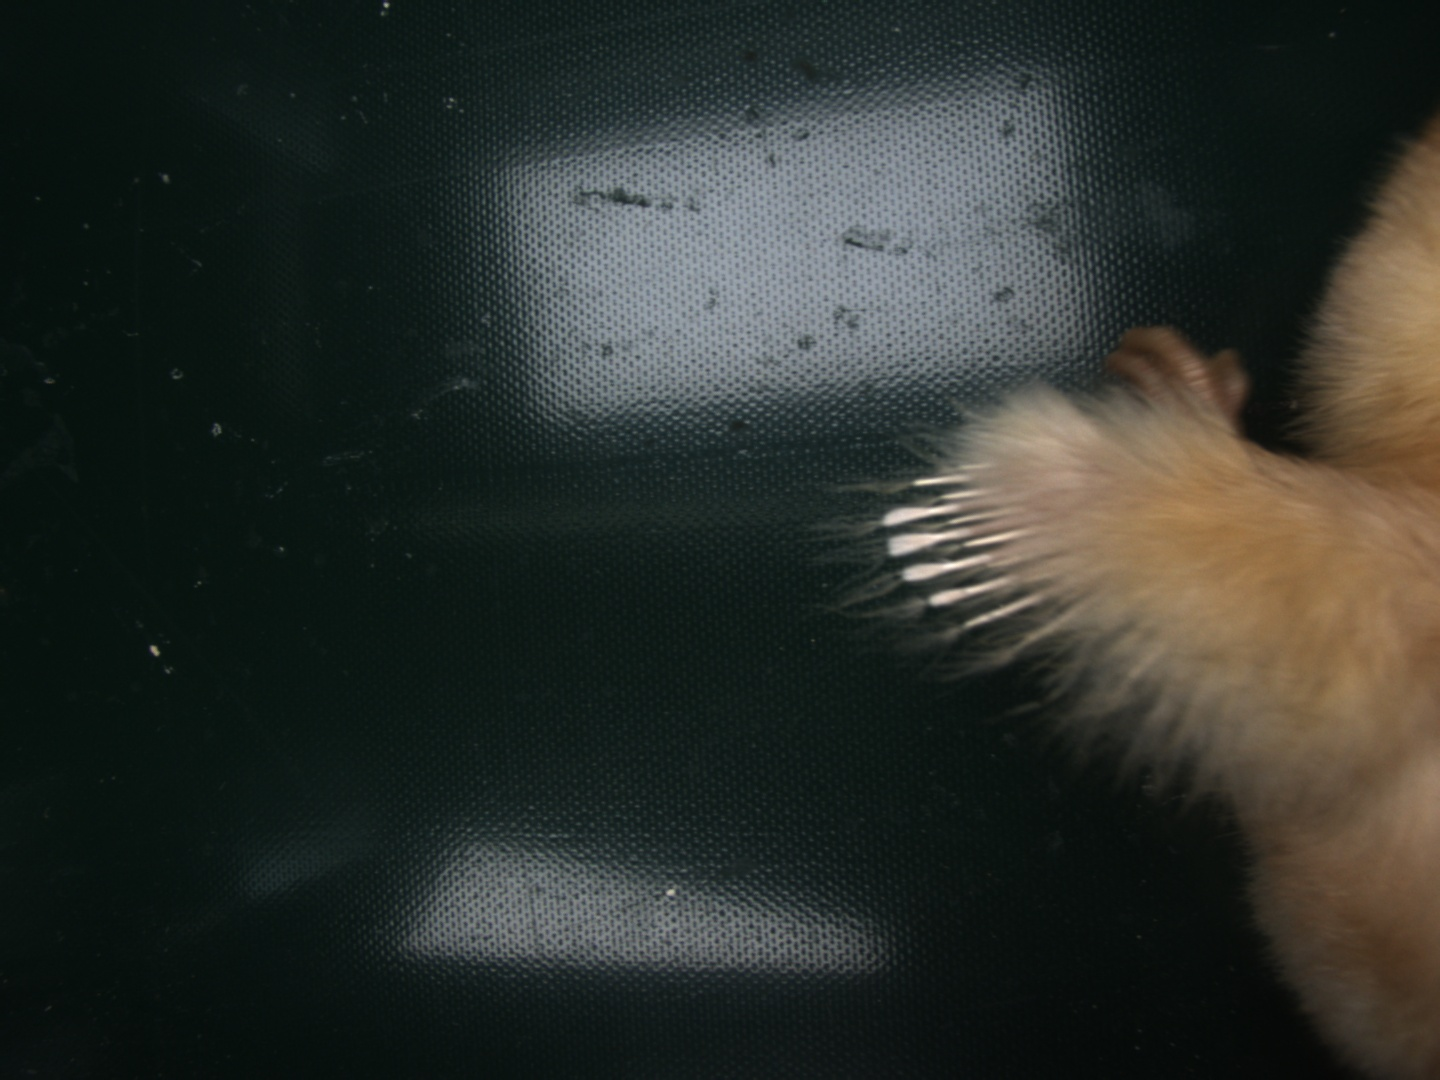female: (880, 462, 1107, 663)
